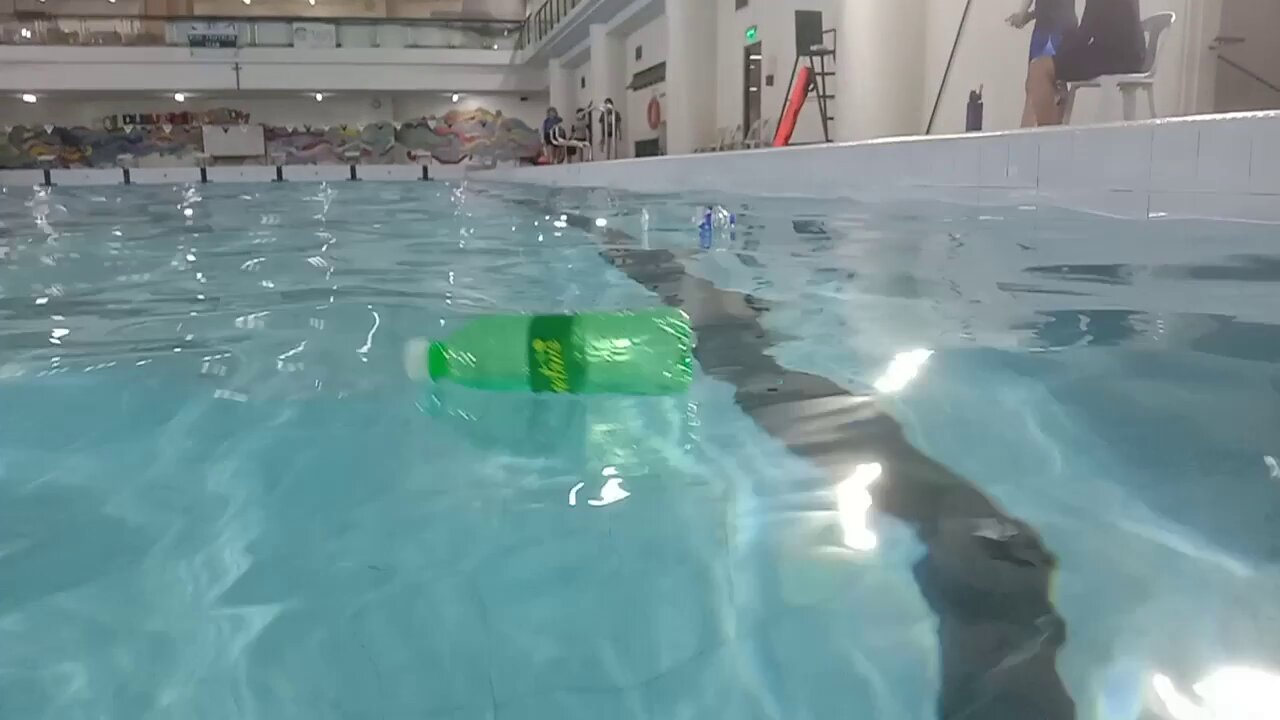plastic_bottle: (404, 302, 699, 402), (641, 199, 736, 236)
